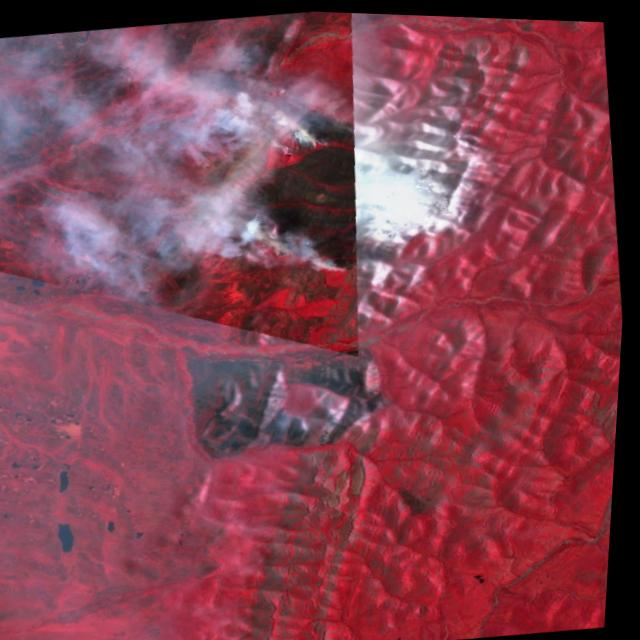fire: (260, 218, 366, 285), (275, 89, 357, 162)
